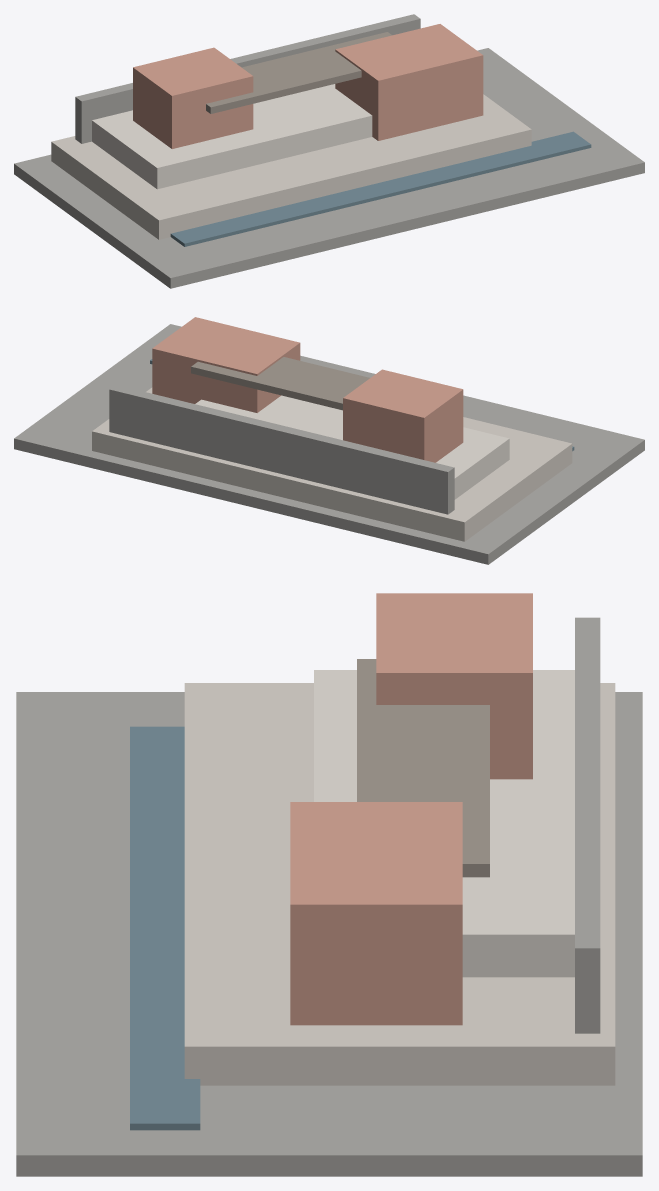
The model's file is oa-costa-terraces-massing-demo.glb.
The picture shows the model from 3 angles, top to bottom: view 1: azimuth 30°, elevation 25°; view 2: azimuth 150°, elevation 25°; view 3: azimuth 270°, elevation 25°; orthographic projection. The views are drawn at different scales.
Visible parts, largest first — view 1: Coastal_Lower_Promenade, Terrace_Level_01, Terrace_Level_02, Civic_Shade_Pavilion_East, Civic_Shade_Pavilion_West, Drainage_Water_Channel, Belvedere_Pergola_Beam, Coastal_Retaining_Wall_North; view 2: Coastal_Lower_Promenade, Coastal_Retaining_Wall_North, Terrace_Level_01, Civic_Shade_Pavilion_West, Civic_Shade_Pavilion_East, Terrace_Level_02, Belvedere_Pergola_Beam; view 3: Coastal_Lower_Promenade, Terrace_Level_01, Civic_Shade_Pavilion_East, Terrace_Level_02, Drainage_Water_Channel, Civic_Shade_Pavilion_West, Belvedere_Pergola_Beam, Coastal_Retaining_Wall_North.
Boxes of the visible parts, box(x1,y1,x2,y2) form: Coastal_Lower_Promenade: box(14, 48, 644, 288); Terrace_Level_01: box(51, 94, 531, 239); Terrace_Level_02: box(92, 84, 372, 189); Civic_Shade_Pavilion_East: box(335, 24, 483, 140); Civic_Shade_Pavilion_West: box(133, 47, 253, 148); Drainage_Water_Channel: box(170, 131, 591, 246); Belvedere_Pergola_Beam: box(206, 32, 391, 113); Coastal_Retaining_Wall_North: box(75, 14, 420, 143); Coastal_Lower_Promenade: box(14, 324, 644, 564); Coastal_Retaining_Wall_North: box(109, 385, 454, 514); Terrace_Level_01: box(92, 387, 572, 541); Civic_Shade_Pavilion_West: box(343, 369, 463, 462); Civic_Shade_Pavilion_East: box(152, 317, 300, 412); Terrace_Level_02: box(195, 395, 509, 499); Belvedere_Pergola_Beam: box(191, 357, 369, 410); Coastal_Lower_Promenade: box(16, 692, 642, 1176); Terrace_Level_01: box(184, 683, 615, 1085); Civic_Shade_Pavilion_East: box(290, 802, 462, 1025); Terrace_Level_02: box(314, 670, 574, 977); Drainage_Water_Channel: box(130, 726, 200, 1130); Civic_Shade_Pavilion_West: box(376, 593, 532, 779); Belvedere_Pergola_Beam: box(357, 659, 489, 877); Coastal_Retaining_Wall_North: box(575, 617, 600, 1033).
Bounding box in the file's own units: 28 × 5.9 × 16.
